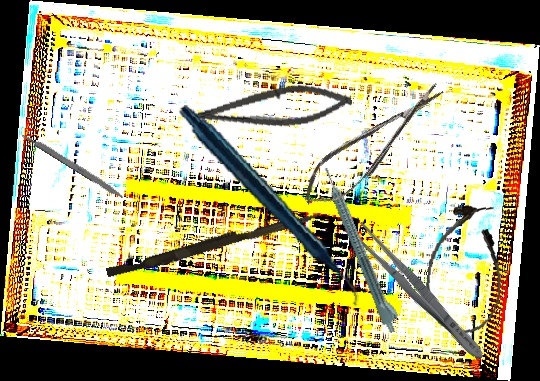Cannula: (420, 199, 511, 339)
Dressing Forceps: (347, 218, 490, 366)
Handpiece: (177, 87, 360, 326), (320, 163, 405, 335)
Micro Scissor: (291, 74, 457, 217), (188, 76, 355, 142)
Pusher: (105, 204, 322, 283)
Scalpel Handle: (19, 129, 127, 201)
